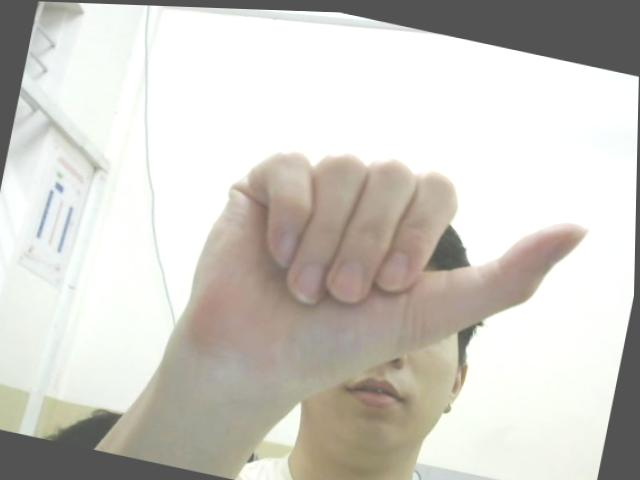A: (176, 116, 597, 417)
